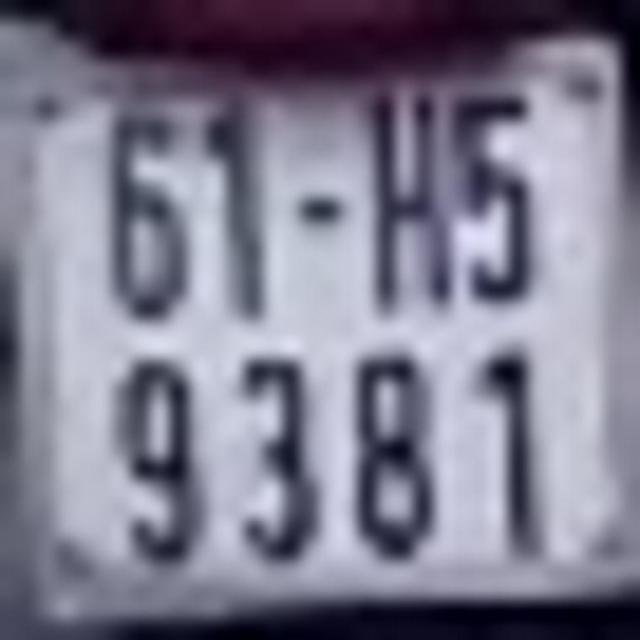1: (206, 97, 270, 312), (483, 341, 544, 562)
3: (238, 354, 310, 548)
5: (462, 88, 534, 303)
6: (109, 96, 186, 319)
8: (354, 352, 440, 550)
9: (119, 348, 201, 567)
H: (369, 86, 451, 312)
